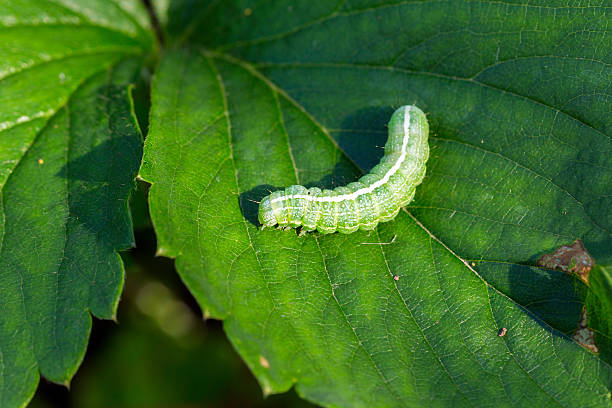Caterpillar: (256, 105, 432, 236)
